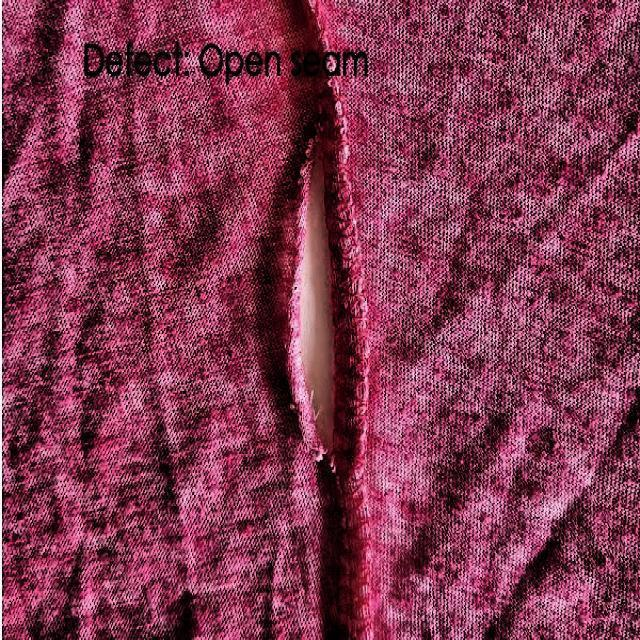cut: (269, 115, 373, 528)
